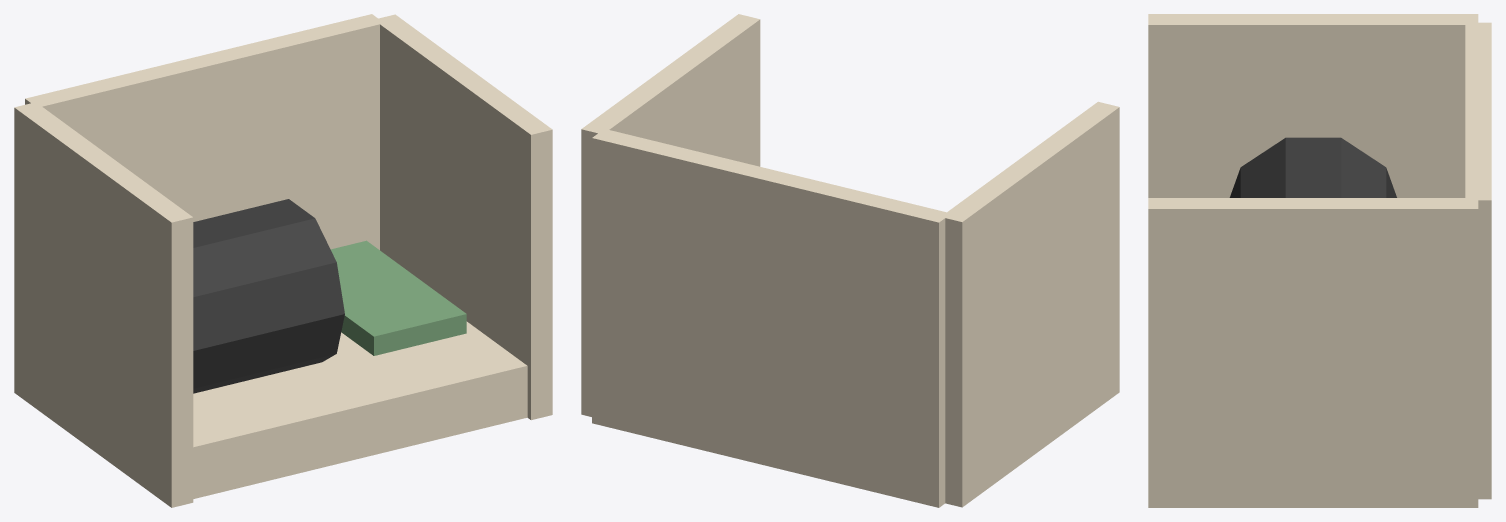
3 renders of one model, left to right at view 1: azimuth 30°, elevation 25°; view 2: azimuth 150°, elevation 25°; view 3: azimuth 270°, elevation 25°, orthographic. The views are drawn at different scales.
Visible parts, largest first — view 1: Side, Back, Side.001, Base, Motor, Circuit board; view 2: Back, Side, Side.001; view 3: Side.001, Side, Back, Motor.
Boxes of the visible parts, <box> form: Side: <box>14,103,193,507</box>; Back: <box>25,14,384,249</box>; Side.001: <box>374,14,552,420</box>; Base: <box>193,321,527,498</box>; Motor: <box>193,199,344,393</box>; Circuit board: <box>330,240,466,355</box>; Back: <box>592,129,951,507</box>; Side: <box>942,101,1119,507</box>; Side.001: <box>581,14,760,416</box>; Side.001: <box>1148,198,1478,507</box>; Side: <box>1148,14,1478,197</box>; Back: <box>1465,22,1491,499</box>; Motor: <box>1229,137,1396,197</box>.
Size of the model in its own units: 0.615 by 0.44 by 0.4575.
Materials: 1 (1 with a texture image).
